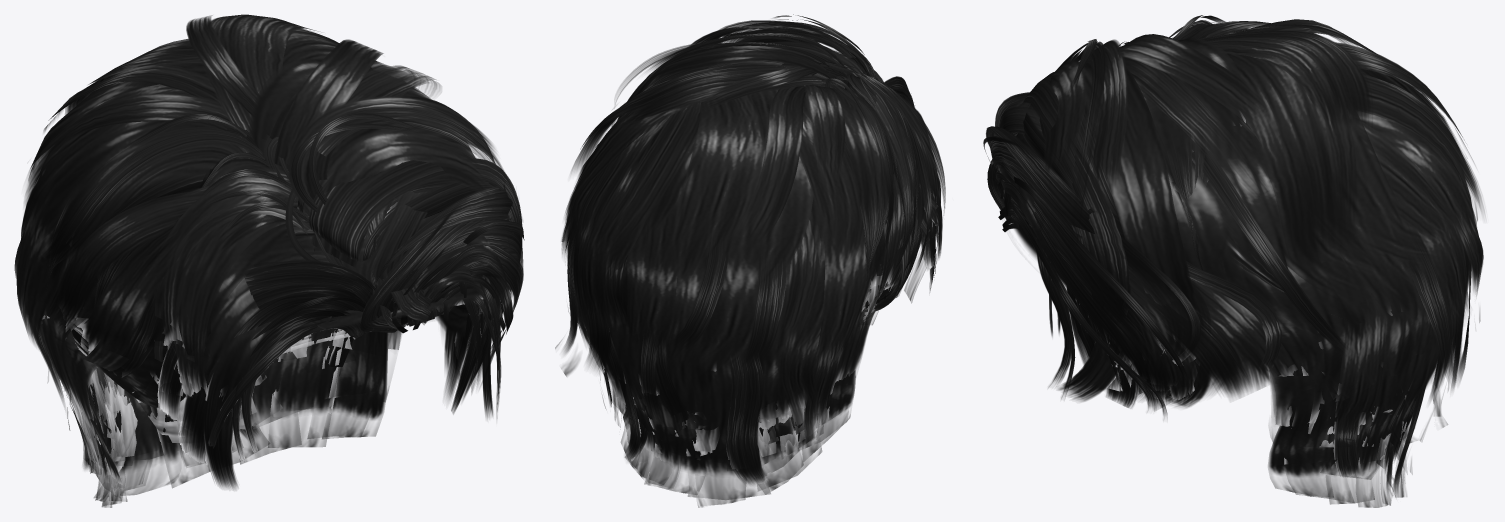
The model's file is diamond_wavy_024_.glb.
3 views of the same model, side by side, from view 1: azimuth 30°, elevation 25°; view 2: azimuth 150°, elevation 25°; view 3: azimuth 270°, elevation 25° (orthographic). The views are drawn at different scales.
Parts seen in each view (by area): view 1: s4studio_mesh_1.002; view 2: s4studio_mesh_1.002; view 3: s4studio_mesh_1.002.
Boxes of the visible parts, x1,y1,x2,y2 form: s4studio_mesh_1.002: (14,14,524,507); s4studio_mesh_1.002: (555,14,945,507); s4studio_mesh_1.002: (983,15,1484,507).
Bounding box in the file's own units: 0.2338 × 0.2649 × 0.2673.
Materials: 1 (1 with a texture image).
